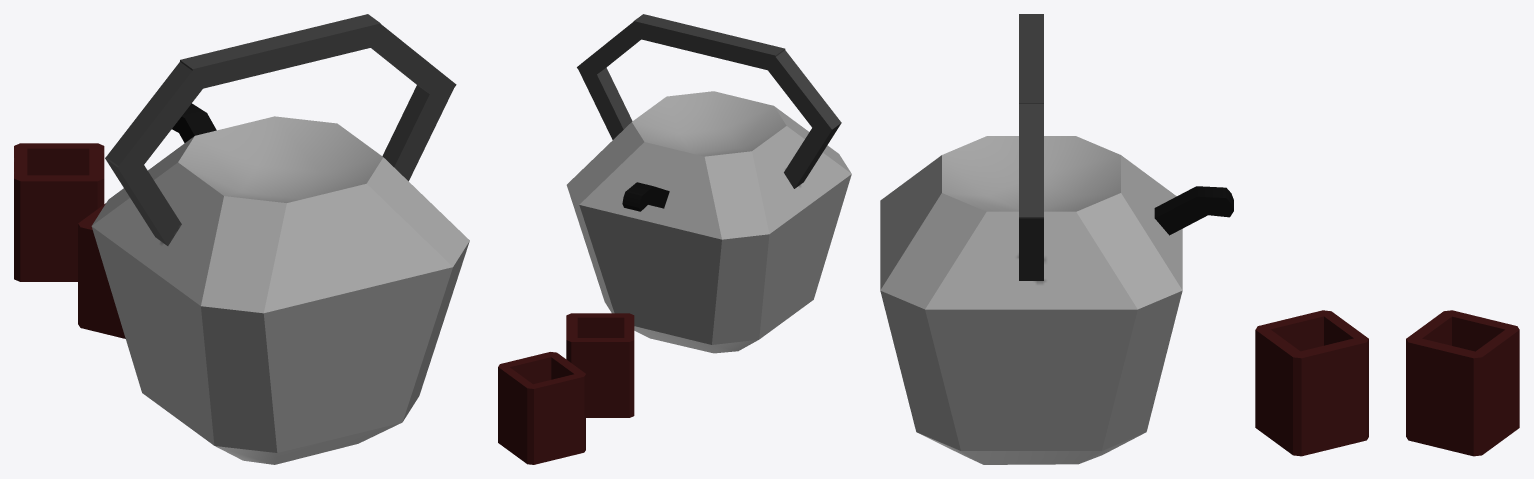
3 views of the same model, side by side, from view 1: azimuth 30°, elevation 25°; view 2: azimuth 150°, elevation 25°; view 3: azimuth 270°, elevation 25° (orthographic). The views are drawn at different scales.
Visible parts, largest first — view 1: pCube16; view 2: pCube16; view 3: pCube16.
Boxes of the visible parts, left/top/right/bottom form: pCube16: left=14, top=14, right=469, bottom=464; pCube16: left=498, top=14, right=851, bottom=464; pCube16: left=880, top=14, right=1519, bottom=464.
Size of the model in its own units: 1.19 by 1.29 by 1.99.
1 material, 1 textured.
